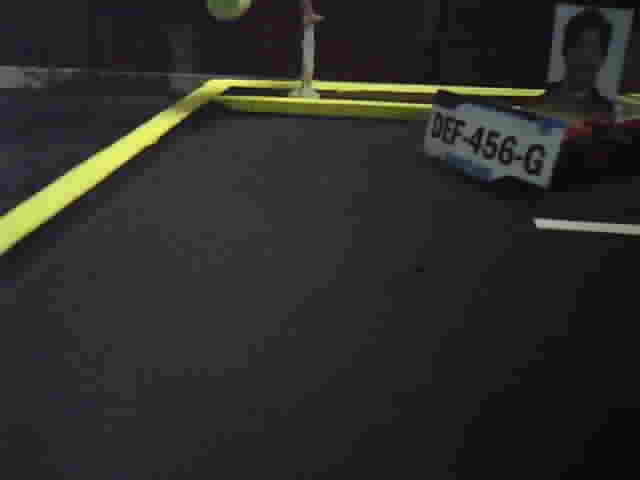PLACA: (421, 89, 570, 202)
ROSTRO: (554, 7, 617, 109)
